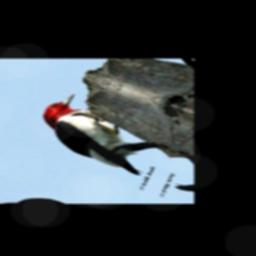Woodpecker: (29, 85, 171, 178)
